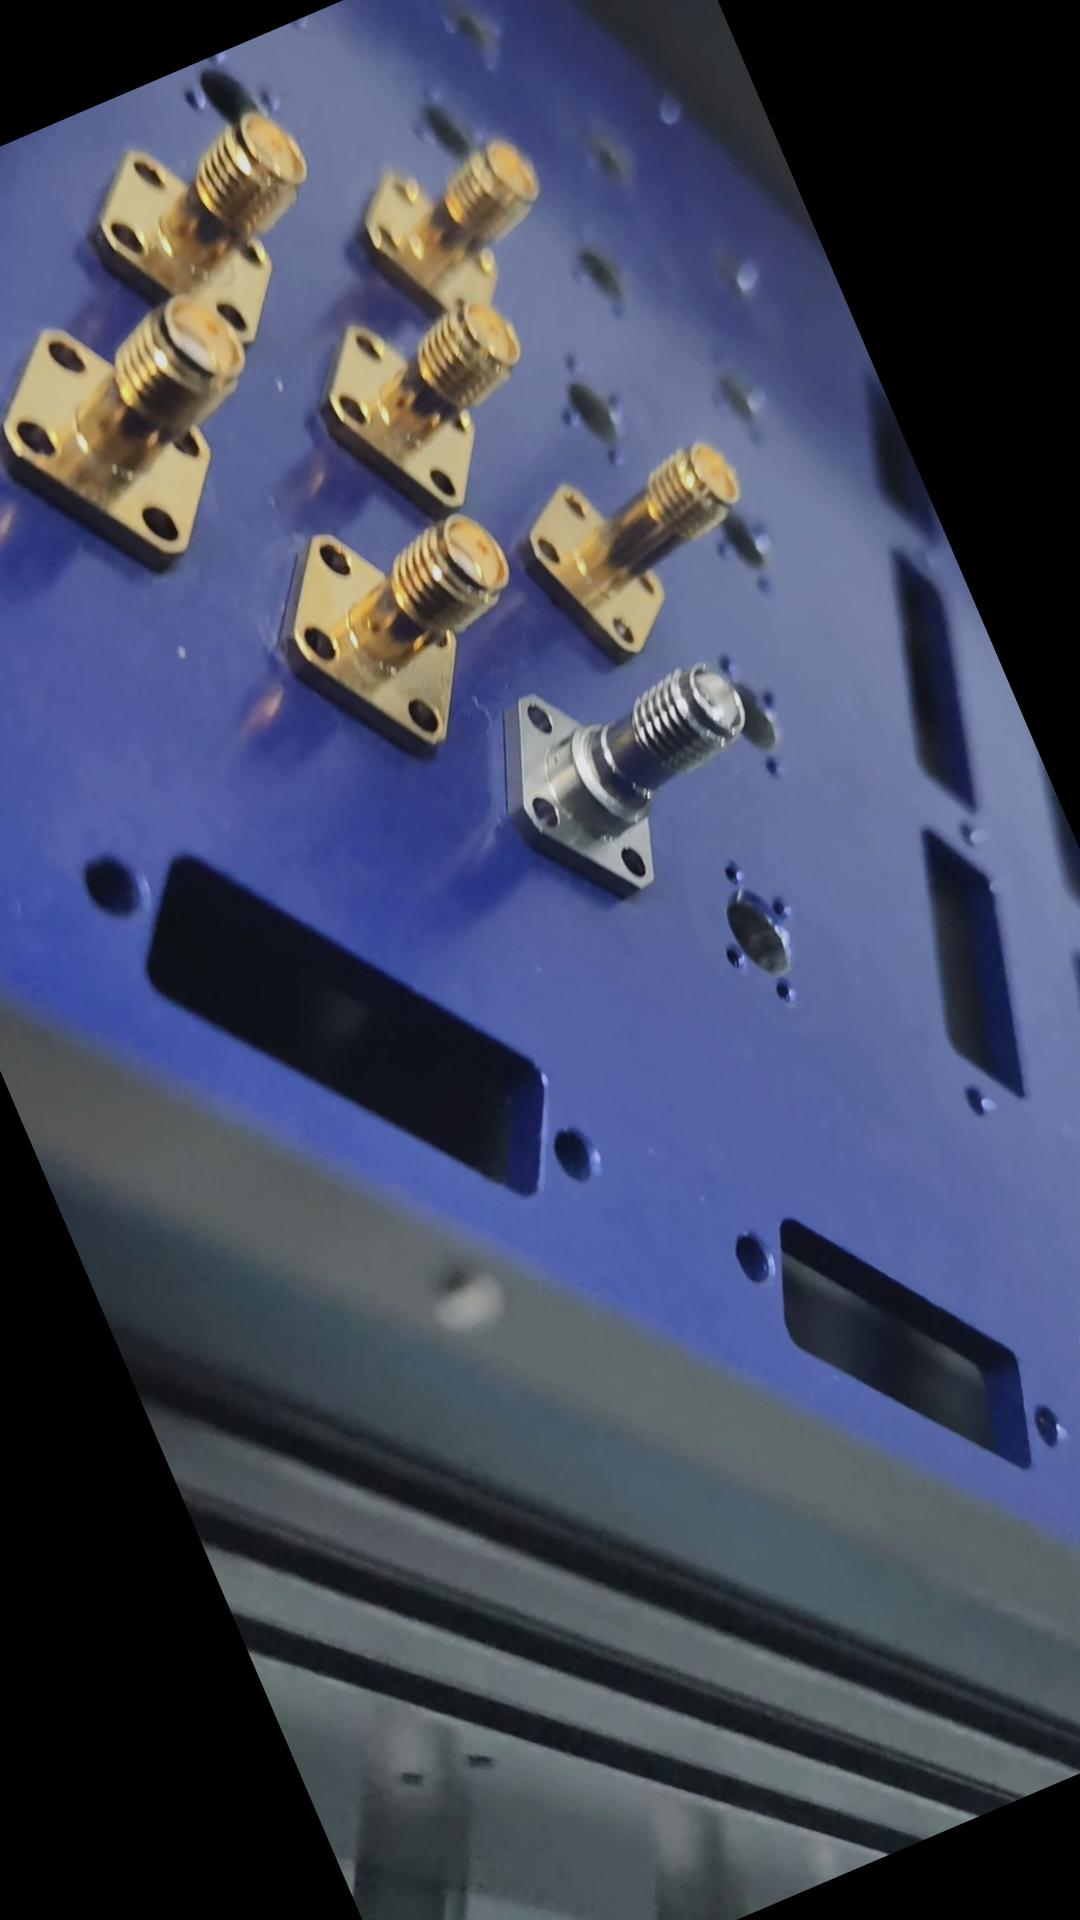SMA: (243, 448, 564, 787), (464, 601, 796, 927), (291, 243, 580, 549), (502, 407, 794, 684)
